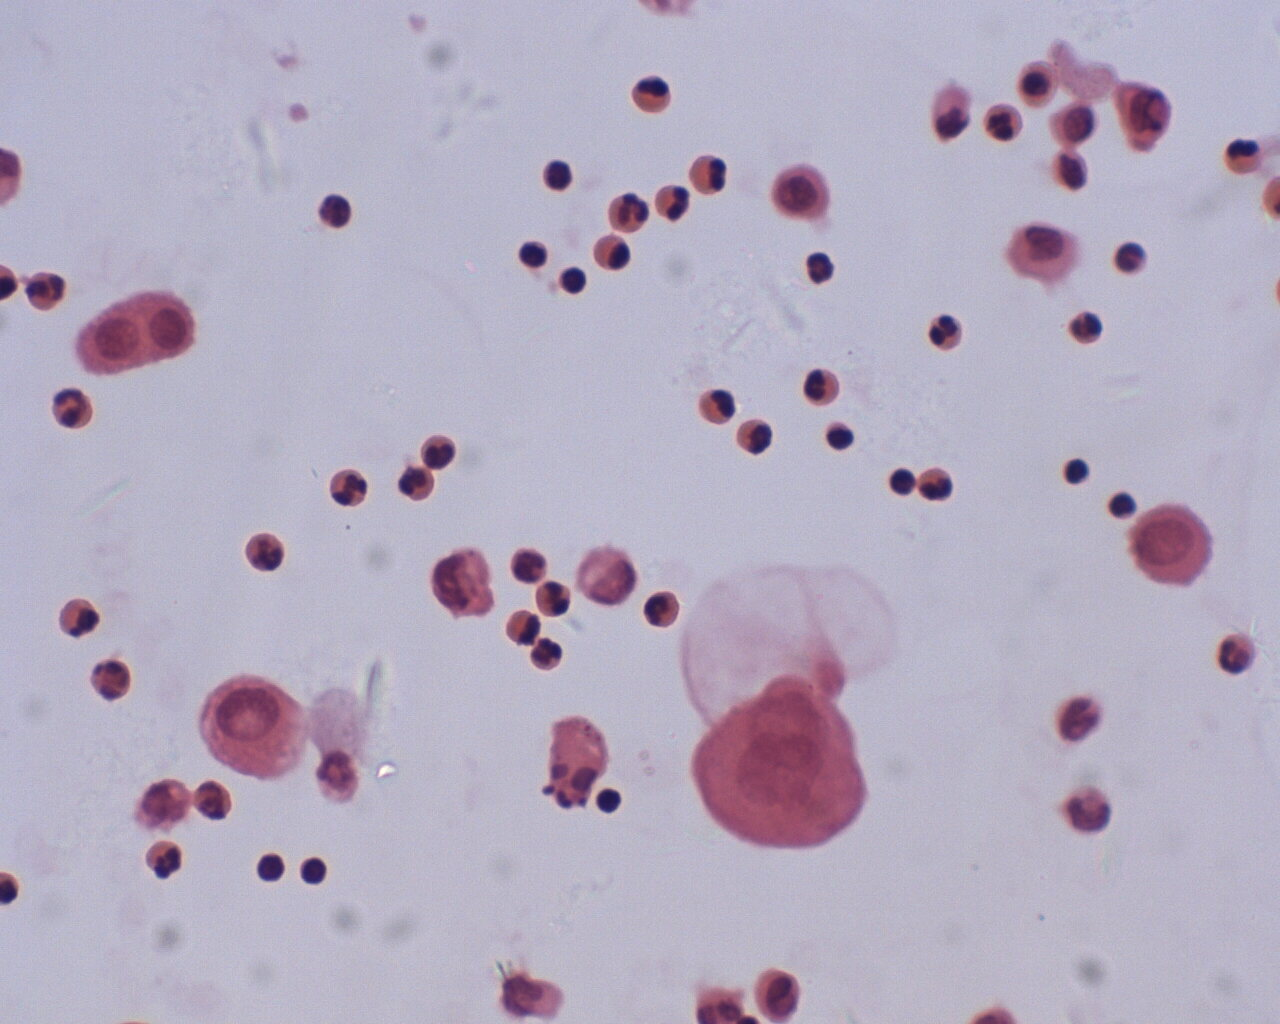lymph: (539, 156, 577, 191), (1106, 489, 1137, 520), (1062, 455, 1092, 487), (822, 419, 855, 449), (514, 239, 548, 269), (298, 855, 329, 884), (257, 853, 287, 882), (559, 264, 585, 294)
meso: (199, 671, 310, 782), (1123, 497, 1216, 589), (69, 295, 152, 376), (136, 289, 203, 365)
neutro: (1209, 625, 1258, 677), (607, 188, 648, 237), (639, 589, 686, 631), (984, 99, 1026, 144), (1109, 236, 1156, 276), (245, 531, 287, 573), (57, 598, 100, 637), (49, 389, 94, 426), (688, 152, 728, 192), (394, 464, 435, 503), (503, 606, 540, 647), (331, 467, 368, 508), (700, 386, 736, 427), (806, 366, 840, 408), (928, 312, 961, 354), (420, 429, 453, 470), (655, 181, 689, 222), (537, 580, 571, 620), (1067, 309, 1102, 344)
